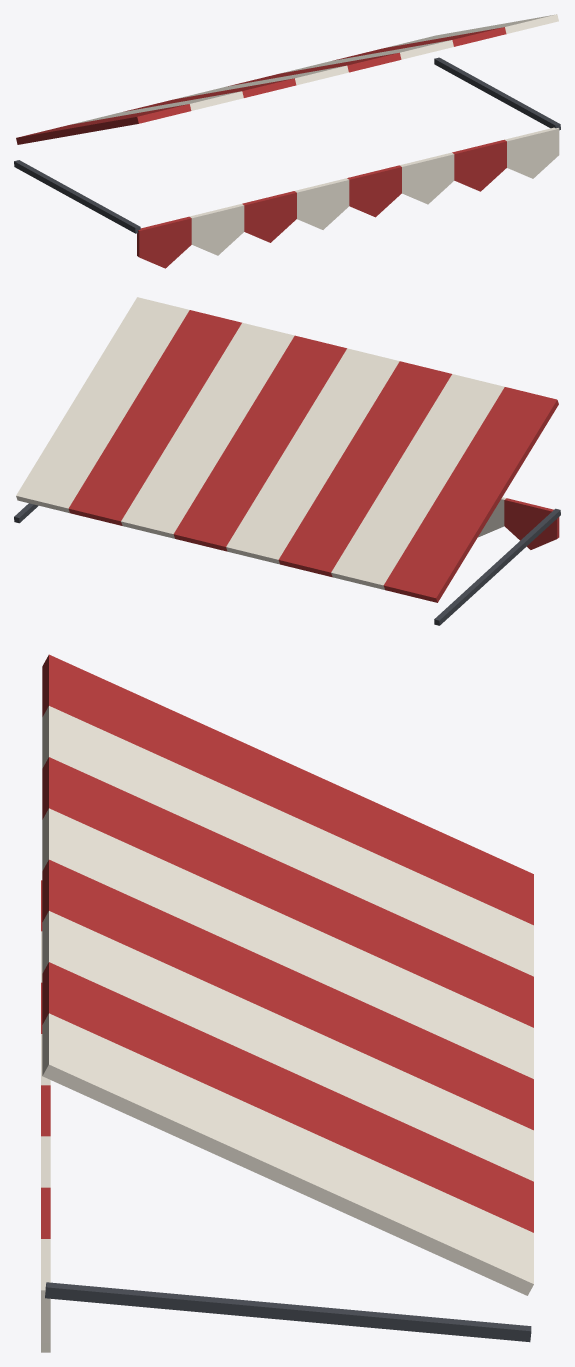
File: Awning_Red.glb
3 renders of one model, top to bottom at view 1: azimuth 30°, elevation 25°; view 2: azimuth 150°, elevation 25°; view 3: azimuth 270°, elevation 25°, orthographic. The views are drawn at different scales.
Parts seen in each view (by area): view 1: Awning_Red; view 2: Awning_Red; view 3: Awning_Red.
Part boxes in pixels (left/top/right/bottom): Awning_Red: left=14, top=14, right=560, bottom=268; Awning_Red: left=14, top=297, right=560, bottom=625; Awning_Red: left=41, top=654, right=533, bottom=1352.
Bounding box in the file's own units: 2.03 × 0.7134 × 1.02.
Materials: 1 (1 with a texture image).
